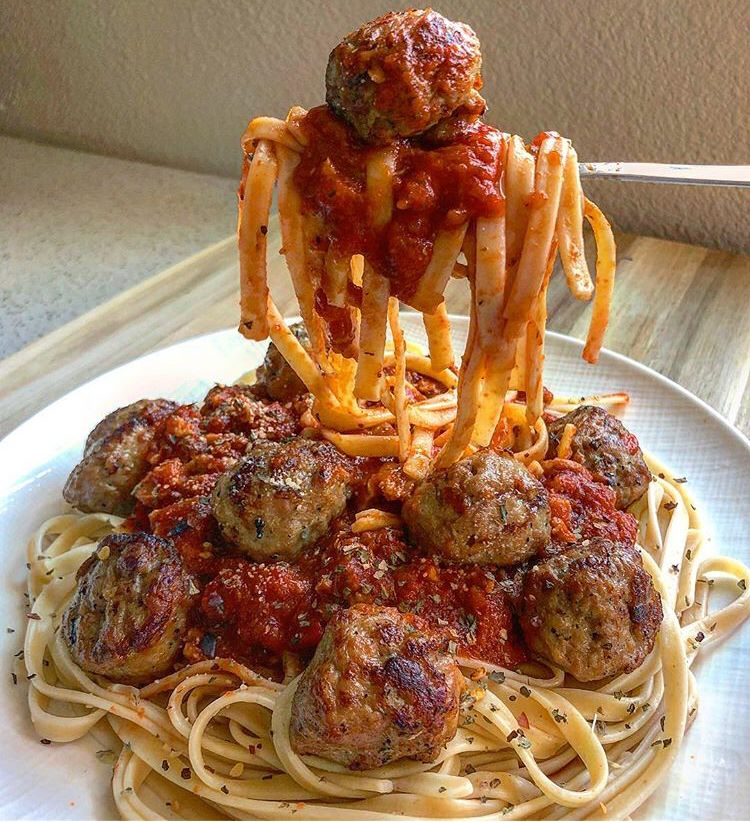meatballs: (302, 601, 455, 761), (522, 539, 660, 679), (319, 12, 477, 119), (64, 542, 188, 675), (210, 442, 350, 559), (415, 448, 548, 553), (55, 408, 173, 512), (553, 400, 648, 506)
plain spaghetti: (218, 135, 605, 458), (28, 663, 705, 822), (20, 515, 95, 741)
